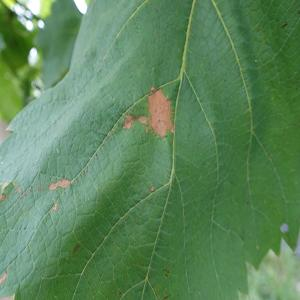Folha: (0, 0, 300, 299)
Fungo: (146, 86, 174, 139), (49, 177, 70, 190), (122, 112, 136, 130), (137, 113, 149, 133), (51, 200, 59, 211), (162, 267, 170, 278), (280, 21, 288, 29), (73, 243, 79, 253), (150, 184, 154, 192), (84, 166, 88, 173)
